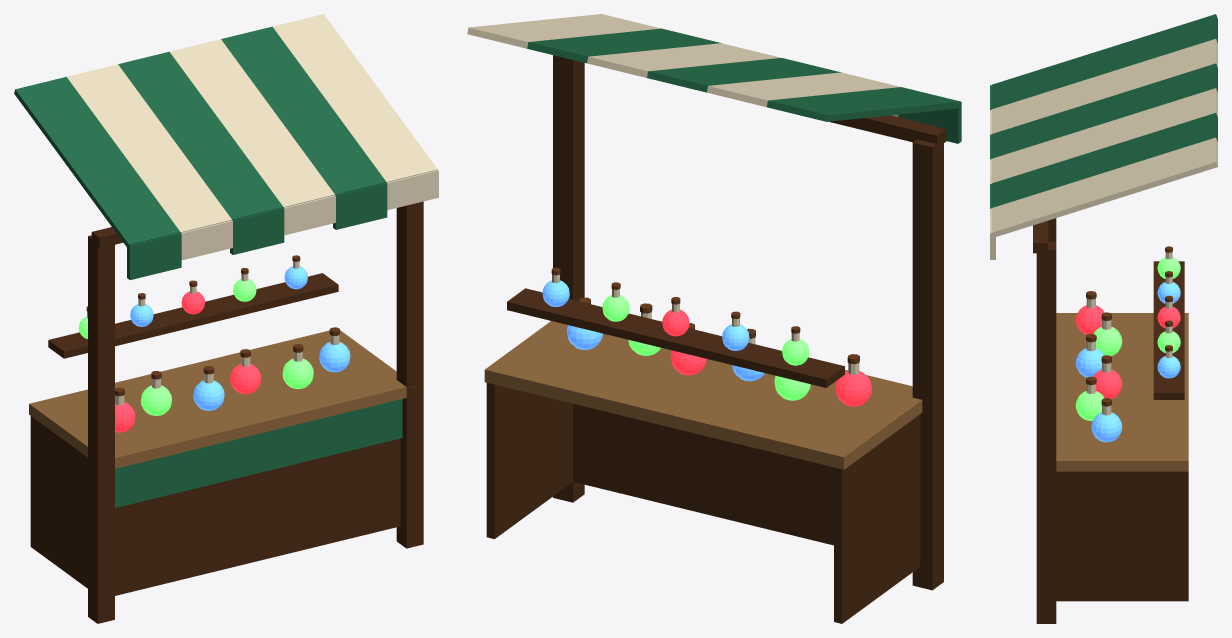
Rendered from shop_alchemy_stall.gltf.
The picture shows the model from 3 angles, left to right: view 1: azimuth 30°, elevation 25°; view 2: azimuth 150°, elevation 25°; view 3: azimuth 270°, elevation 25°; orthographic projection. The views are drawn at different scales.
Visible parts, largest first — view 1: ShopAlchemyStallShopWood, ShopAlchemyStallShopCloth, ShopAlchemyStallShopCream, ShopAlchemyStallShopWoodLight, ShopAlchemyStallShopPotionBlue, ShopAlchemyStallShopPotionGreen, ShopAlchemyStallShopPotionRed, ShopAlchemyStallShopLeather; view 2: ShopAlchemyStallShopWood, ShopAlchemyStallShopWoodLight, ShopAlchemyStallShopCloth, ShopAlchemyStallShopCream, ShopAlchemyStallShopPotionRed, ShopAlchemyStallShopPotionGreen, ShopAlchemyStallShopPotionBlue, ShopAlchemyStallShopLeather; view 3: ShopAlchemyStallShopWood, ShopAlchemyStallShopCream, ShopAlchemyStallShopCloth, ShopAlchemyStallShopWoodLight, ShopAlchemyStallShopPotionBlue, ShopAlchemyStallShopPotionGreen, ShopAlchemyStallShopPotionRed, ShopAlchemyStallShopLeather.
Boxes of the visible parts, left/top/right/bottom form: ShopAlchemyStallShopWood: left=30, top=201, right=423, bottom=623; ShopAlchemyStallShopCloth: left=14, top=26, right=402, bottom=507; ShopAlchemyStallShopCream: left=67, top=14, right=438, bottom=405; ShopAlchemyStallShopWoodLight: left=29, top=330, right=414, bottom=468; ShopAlchemyStallShopPotionBlue: left=130, top=266, right=350, bottom=410; ShopAlchemyStallShopPotionGreen: left=78, top=279, right=313, bottom=415; ShopAlchemyStallShopPotionRed: left=115, top=291, right=261, bottom=432; ShopAlchemyStallShopLeather: left=86, top=255, right=339, bottom=396; ShopAlchemyStallShopWood: left=486, top=55, right=946, bottom=623; ShopAlchemyStallShopWoodLight: left=484, top=321, right=922, bottom=469; ShopAlchemyStallShopCloth: left=527, top=28, right=961, bottom=143; ShopAlchemyStallShopCream: left=467, top=14, right=901, bottom=374; ShopAlchemyStallShopPotionRed: left=662, top=309, right=871, bottom=406; ShopAlchemyStallShopPotionGreen: left=602, top=295, right=810, bottom=400; ShopAlchemyStallShopPotionBlue: left=542, top=280, right=764, bottom=381; ShopAlchemyStallShopLeather: left=551, top=267, right=859, bottom=364; ShopAlchemyStallShopWood: left=1033, top=218, right=1188, bottom=623; ShopAlchemyStallShopCream: left=990, top=39, right=1217, bottom=415; ShopAlchemyStallShopCloth: left=990, top=14, right=1217, bottom=208; ShopAlchemyStallShopWoodLight: left=1056, top=313, right=1188, bottom=471; ShopAlchemyStallShopPotionBlue: left=1075, top=282, right=1180, bottom=442; ShopAlchemyStallShopPotionGreen: left=1075, top=257, right=1180, bottom=420; ShopAlchemyStallShopPotionRed: left=1075, top=305, right=1180, bottom=398; ShopAlchemyStallShopLeather: left=1086, top=246, right=1172, bottom=406.
Size of what is drawn, in the model's own units: 1.9 by 2.59 by 1.17.
